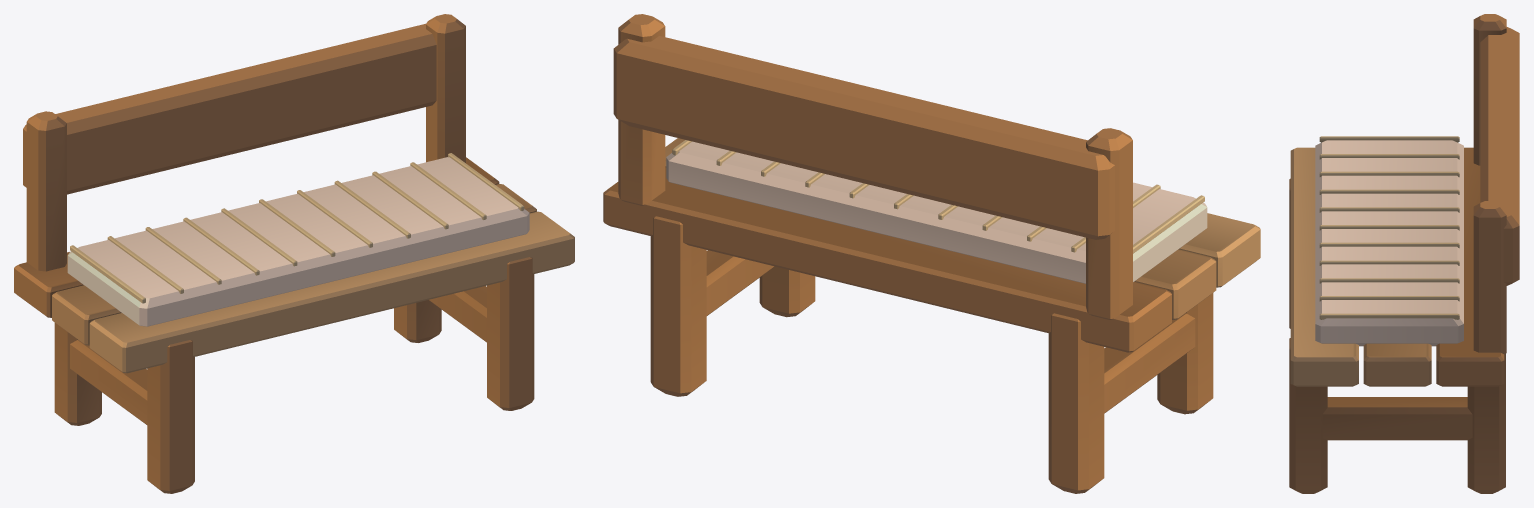
File: furniture_flaumbank.glb
The picture shows the model from 3 angles, left to right: view 1: azimuth 30°, elevation 25°; view 2: azimuth 150°, elevation 25°; view 3: azimuth 270°, elevation 25°; orthographic projection. The views are drawn at different scales.
Visible parts, largest first — view 1: furniture_flaumbank; view 2: furniture_flaumbank; view 3: furniture_flaumbank.
Boxes of the visible parts, x1,y1,x2,y2 form: furniture_flaumbank: [14, 14, 574, 493]; furniture_flaumbank: [603, 14, 1260, 493]; furniture_flaumbank: [1289, 14, 1519, 493].
Size of the model in its own units: 1.52 by 0.9959 by 0.698.
